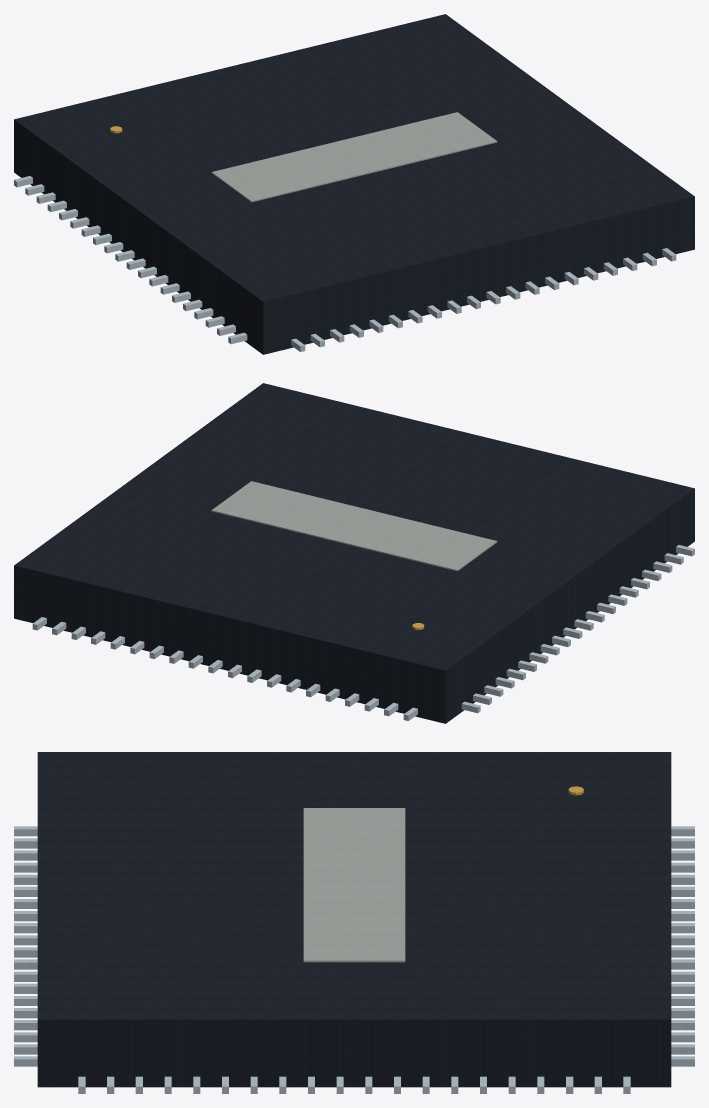
3 views of the same model, one above another, from view 1: azimuth 30°, elevation 25°; view 2: azimuth 150°, elevation 25°; view 3: azimuth 270°, elevation 25° (orthographic). The views are drawn at different scales.
Visible parts, largest first — view 1: 002_L114_U2__PSMAT__Black_Epoxy, 002_L114_U2__PSMAT__IC_LaserMark, 002_L114_U2__PSMAT__Tin_Solder; view 2: 002_L114_U2__PSMAT__Black_Epoxy, 002_L114_U2__PSMAT__IC_LaserMark, 002_L114_U2__PSMAT__Tin_Solder; view 3: 002_L114_U2__PSMAT__Black_Epoxy, 002_L114_U2__PSMAT__IC_LaserMark, 002_L114_U2__PSMAT__Tin_Solder.
Boxes of the visible parts, x1=… form: 002_L114_U2__PSMAT__Black_Epoxy: x1=14, y1=14, x2=694, y2=354; 002_L114_U2__PSMAT__IC_LaserMark: x1=211, y1=112, x2=497, y2=202; 002_L114_U2__PSMAT__Tin_Solder: x1=14, y1=176, x2=676, y2=351; 002_L114_U2__PSMAT__Black_Epoxy: x1=14, y1=383, x2=694, y2=723; 002_L114_U2__PSMAT__IC_LaserMark: x1=211, y1=481, x2=497, y2=571; 002_L114_U2__PSMAT__Tin_Solder: x1=32, y1=545, x2=694, y2=720; 002_L114_U2__PSMAT__Black_Epoxy: x1=37, y1=752, x2=671, y2=1087; 002_L114_U2__PSMAT__IC_LaserMark: x1=303, y1=808, x2=405, y2=962; 002_L114_U2__PSMAT__Tin_Solder: x1=14, y1=826, x2=694, y2=1093.
Size of the model in its own units: 0.0301 by 0.00343 by 0.0301.
Materials: 4 (4 with a texture image).
